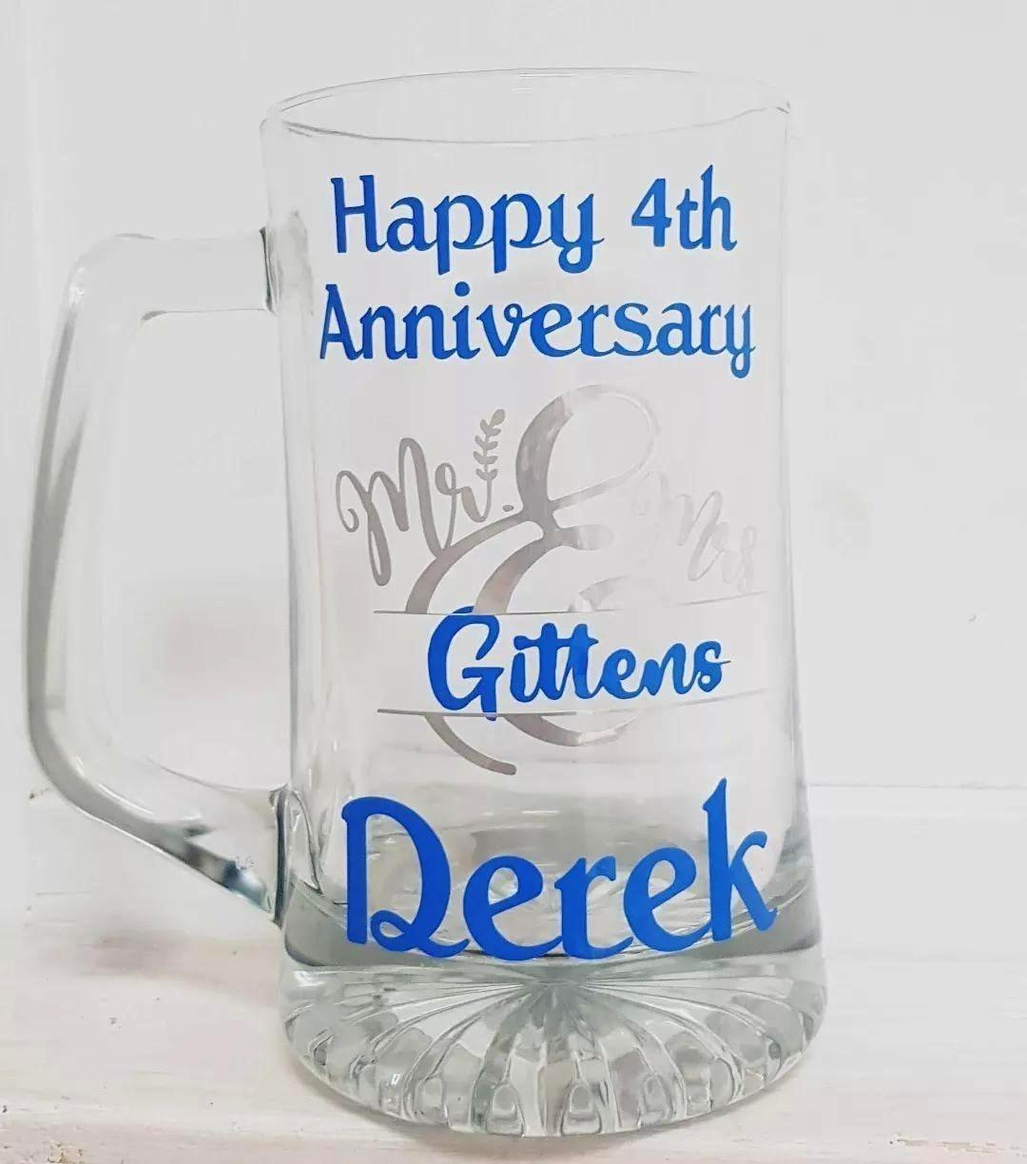glass-mug: (0, 61, 836, 1164)
